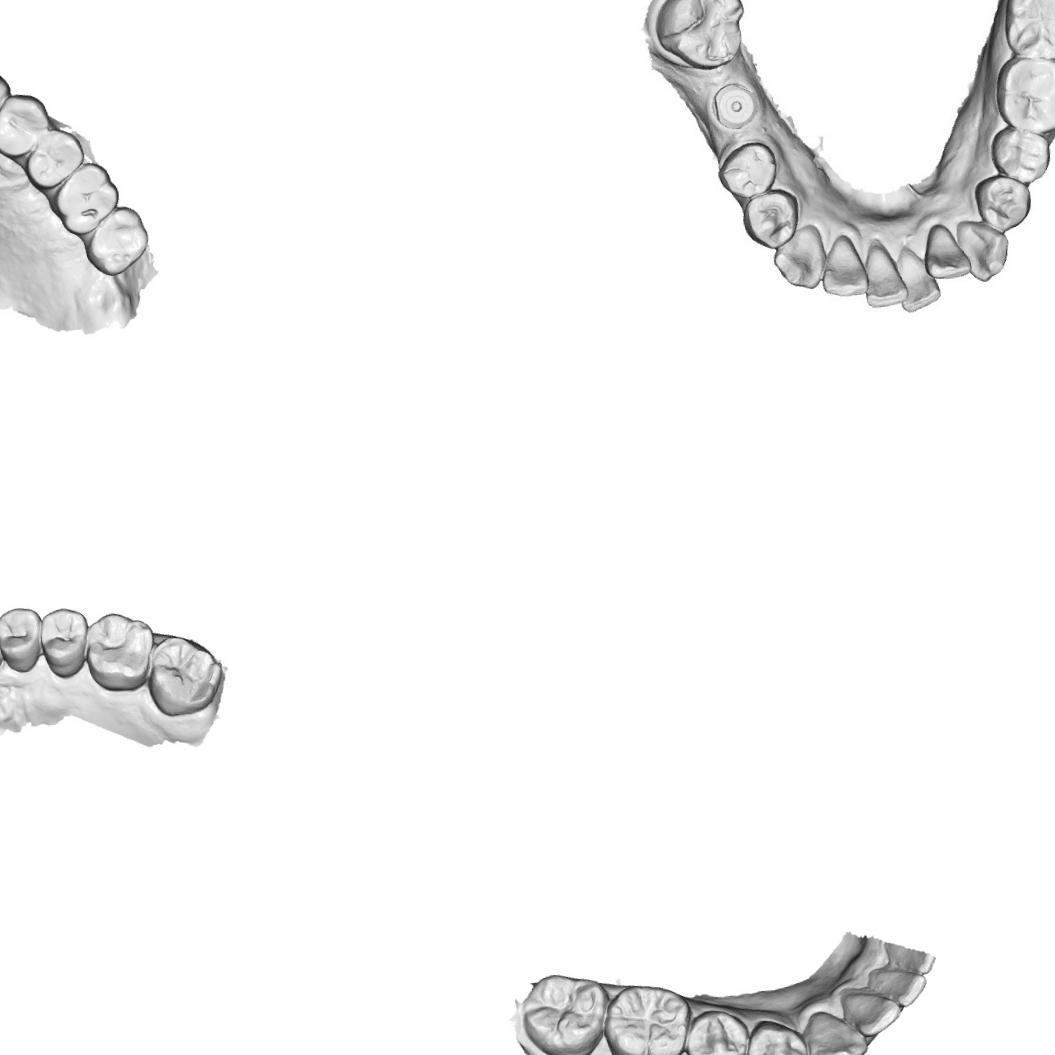canine: (770, 221, 825, 292), (799, 1003, 869, 1055), (958, 218, 1009, 275), (0, 56, 13, 122)
implant: (708, 73, 758, 131)
incisor: (816, 227, 874, 298), (892, 242, 943, 312), (863, 962, 929, 1011), (844, 986, 903, 1039), (862, 241, 909, 306), (920, 217, 968, 280)
molar: (516, 967, 610, 1055), (651, 0, 758, 71), (142, 630, 226, 720), (599, 979, 696, 1055), (81, 606, 158, 694), (48, 158, 124, 237), (80, 202, 153, 278), (997, 52, 1055, 133), (1005, 0, 1055, 63)
premolar: (18, 123, 88, 192), (35, 604, 91, 680), (742, 185, 802, 250), (0, 89, 52, 162), (715, 138, 778, 198), (680, 1007, 749, 1055), (994, 124, 1051, 182), (977, 174, 1035, 230), (0, 604, 45, 673), (744, 1017, 807, 1055)
